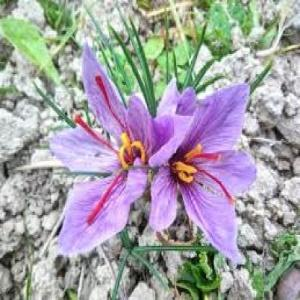Saffron: (50, 45, 152, 256), (146, 76, 258, 264)
